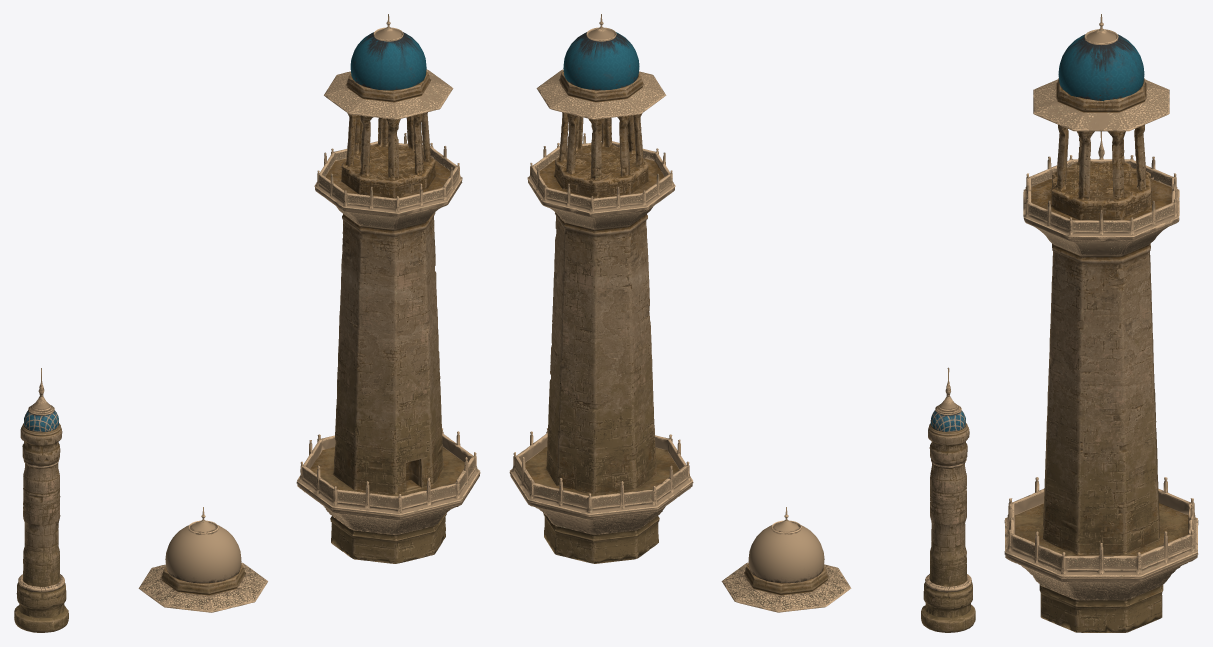
3 views of the same model, side by side, from view 1: azimuth 30°, elevation 25°; view 2: azimuth 150°, elevation 25°; view 3: azimuth 270°, elevation 25° (orthographic). The views are drawn at different scales.
Visible parts, largest first — view 1: DesertTemple_Tower_Medium_01.001, DesertTemple_Pillar_Bulb_01, DesertTemple_Tower_Medium_01; view 2: DesertTemple_Tower_Medium_01.001, DesertTemple_Pillar_Bulb_01, DesertTemple_Tower_Medium_01; view 3: DesertTemple_Tower_Medium_01.001.
Boxes of the visible parts, x1,y1,x2,y2 form: DesertTemple_Tower_Medium_01.001: (296, 14, 480, 563); DesertTemple_Pillar_Bulb_01: (14, 368, 68, 632); DesertTemple_Tower_Medium_01: (138, 507, 267, 612); DesertTemple_Tower_Medium_01.001: (509, 14, 693, 563); DesertTemple_Pillar_Bulb_01: (921, 367, 975, 632); DesertTemple_Tower_Medium_01: (721, 507, 851, 612); DesertTemple_Tower_Medium_01.001: (1004, 14, 1198, 632).
Size of the model in its own units: 19.24 by 21.76 by 6.44.
Materials: 3 (3 with a texture image).
